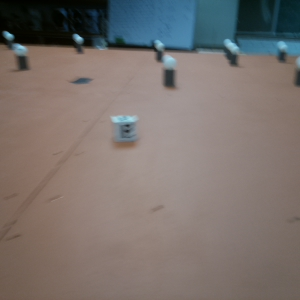obstacle: (161, 56, 180, 90), (13, 45, 29, 71), (73, 35, 85, 56), (278, 42, 288, 66), (230, 48, 242, 67), (155, 41, 165, 63), (4, 33, 16, 51), (224, 40, 235, 58), (294, 60, 300, 93)
